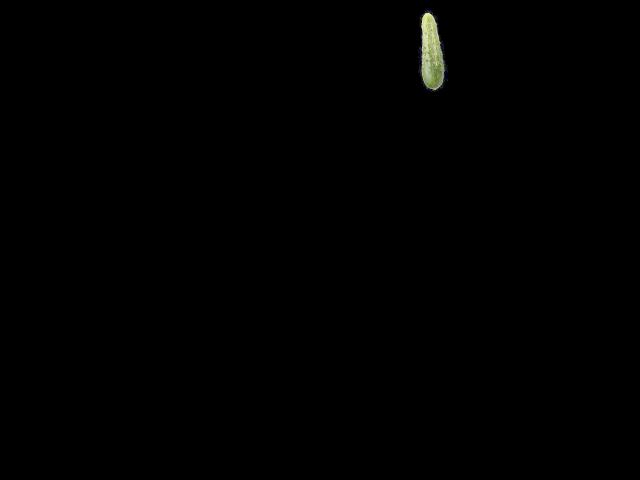cucumber: (416, 12, 447, 91)
